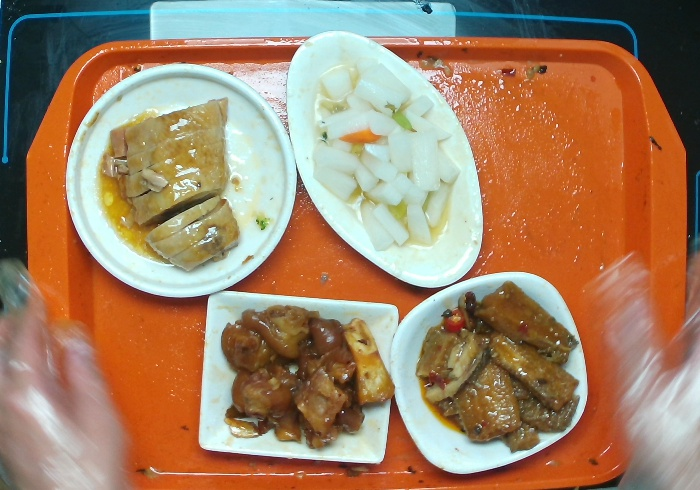HZYJPL-Si_Fang_Die: (197, 289, 400, 464)
HZYJPL-Si_Fang_Yuan_Die: (386, 270, 587, 474)
HZYJPL-Xiao_Yu_Die: (285, 28, 485, 289)
HZYJPL-Xiao_Yuan_Die: (64, 59, 298, 299)
